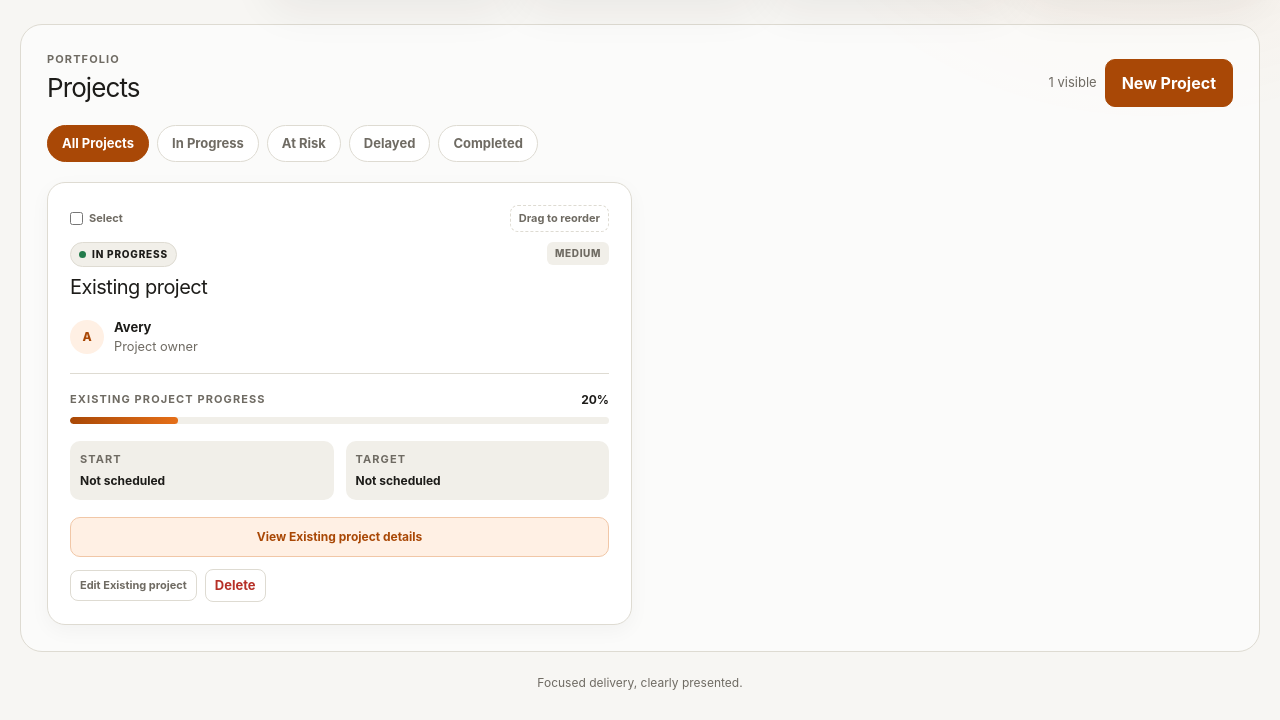
Test case: admin dashboard controls › rolls a failed deletion back and offers retry
(page scrolled)
Click the button with aria-label "Delete Existing project" at (235, 586), box x1=205 y1=569 x2=266 y2=602
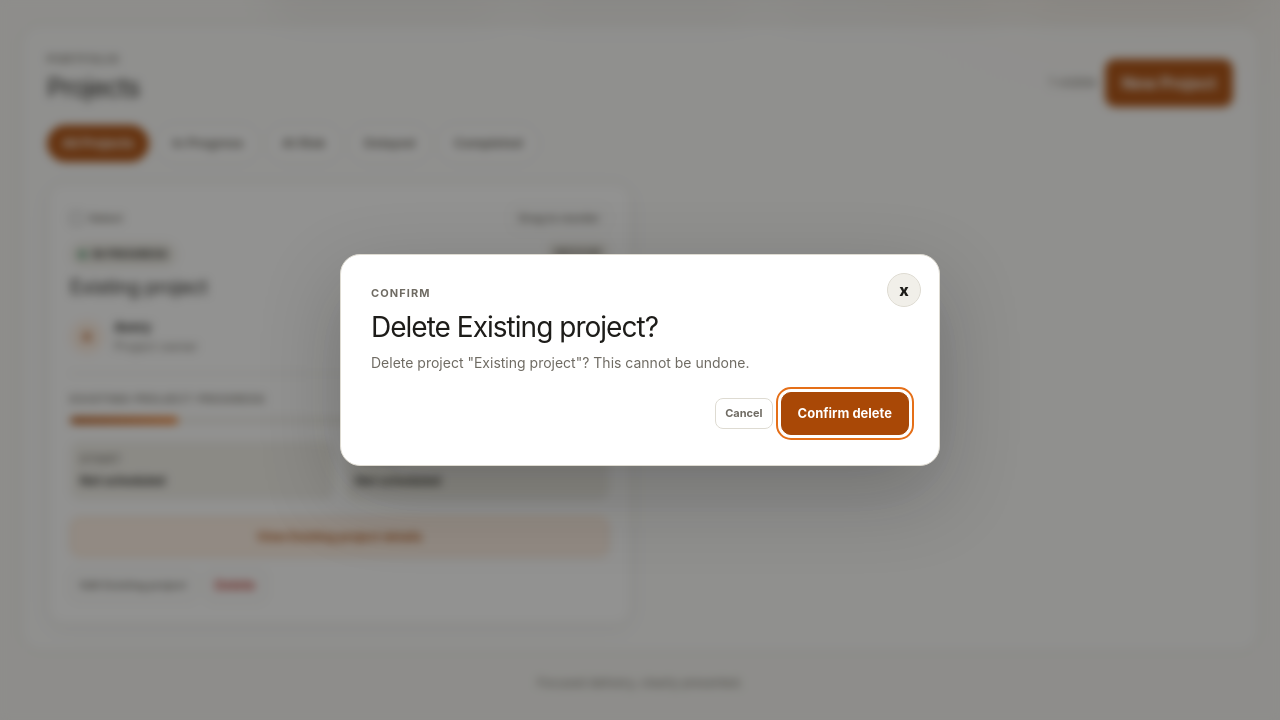
Click the button "Confirm delete" at (845, 413), box x1=781 y1=392 x2=909 y2=435
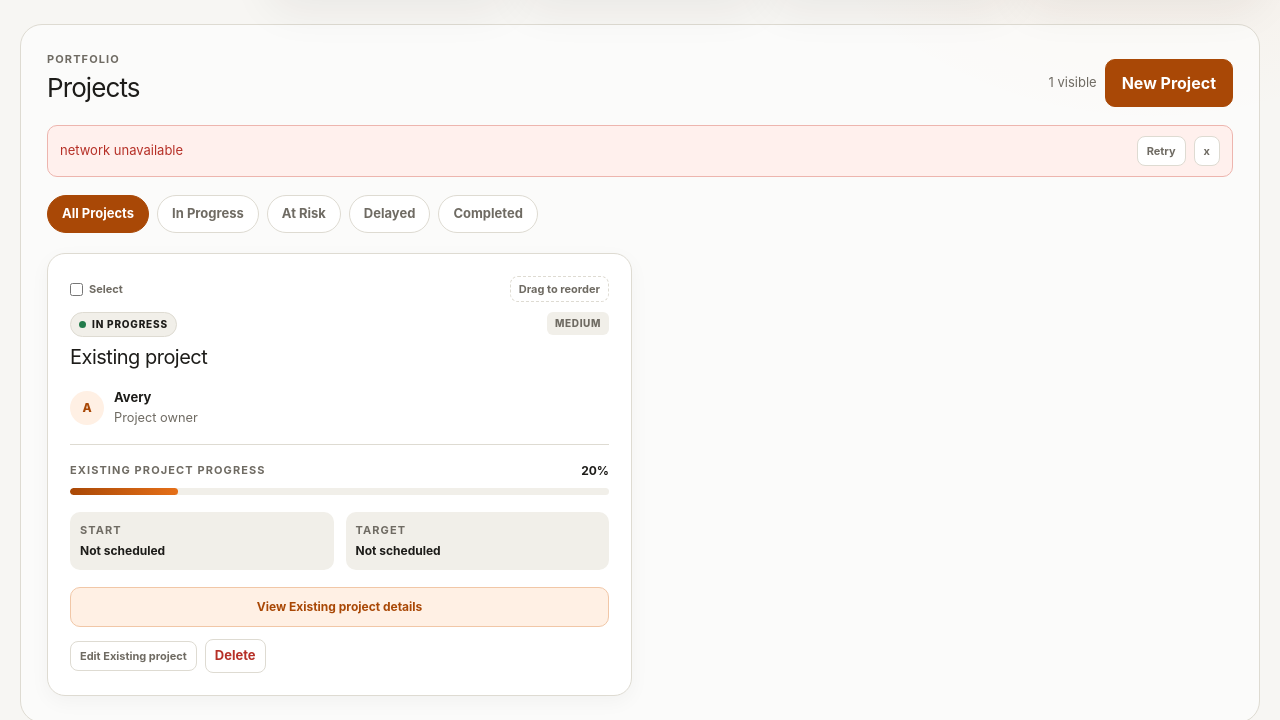
Check: the heading "Existing project" is shown, box x1=70 y1=345 x2=207 y2=370
Check: the message shows "network unavailable", box x1=60 y1=142 x2=183 y2=158
Check: the button "Retry" is shown, box x1=1137 y1=136 x2=1186 y2=166
